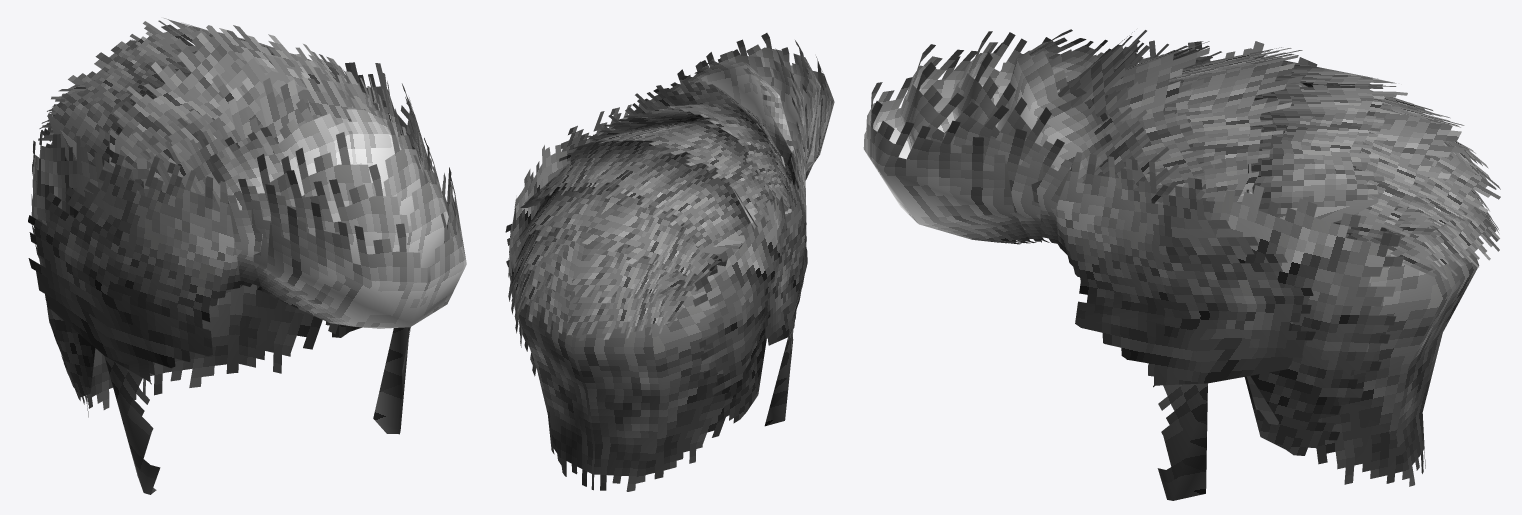
Rendered from m_head016.glb.
3 views of the same model, side by side, from view 1: azimuth 30°, elevation 25°; view 2: azimuth 150°, elevation 25°; view 3: azimuth 270°, elevation 25° (orthographic). The views are drawn at different scales.
Size of the model in its own units: 18.11 by 23.24 by 29.14.
Materials: 1 (1 with a texture image).
